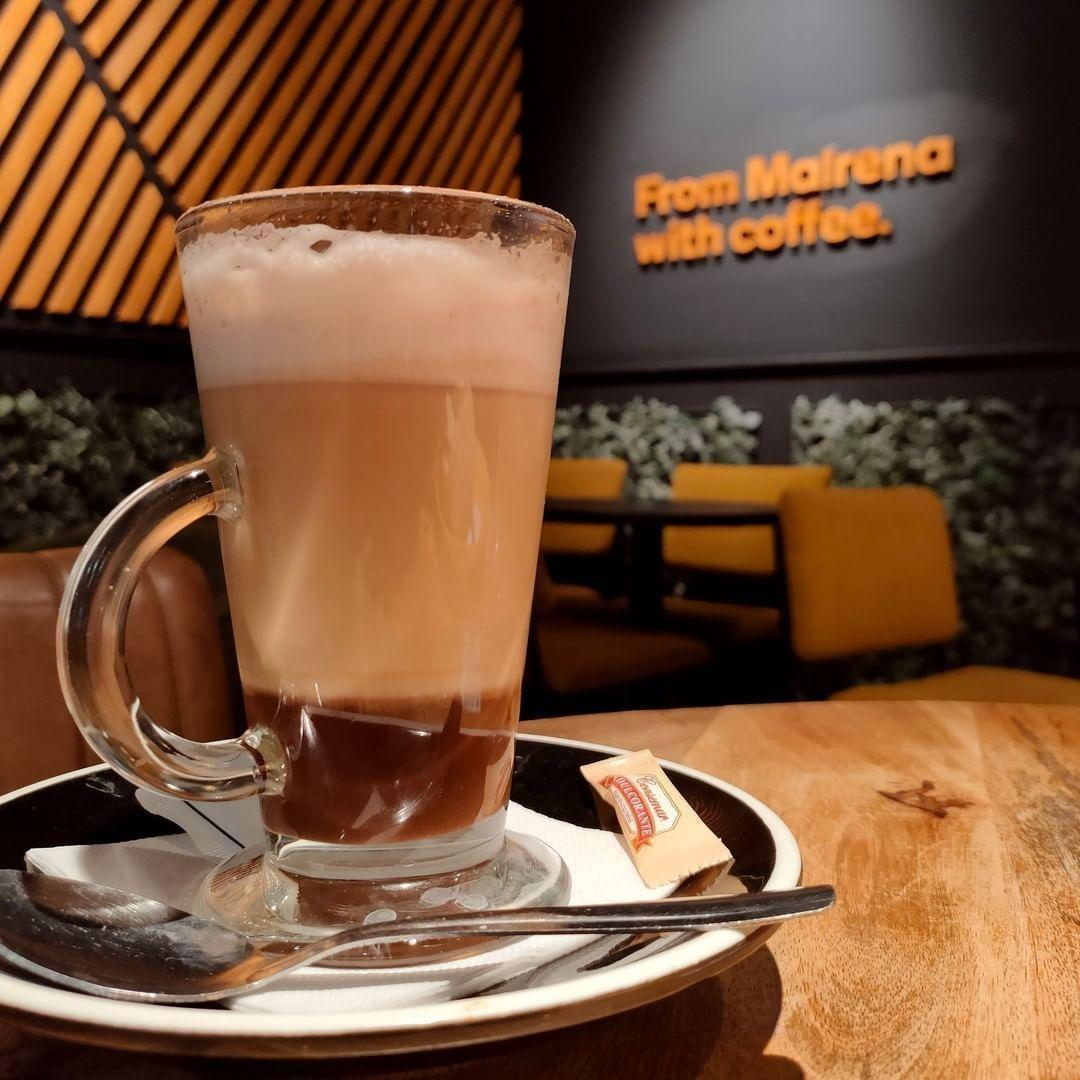glass-mug: (46, 173, 594, 889)
